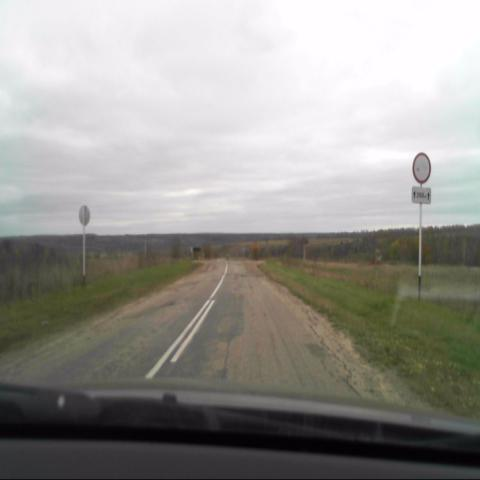3_2: (412, 152, 431, 182)
